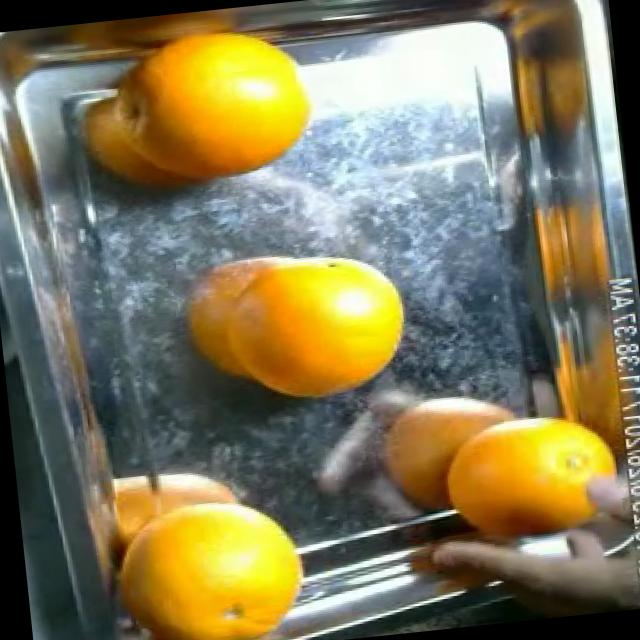Fruit: (206, 227, 434, 428)
